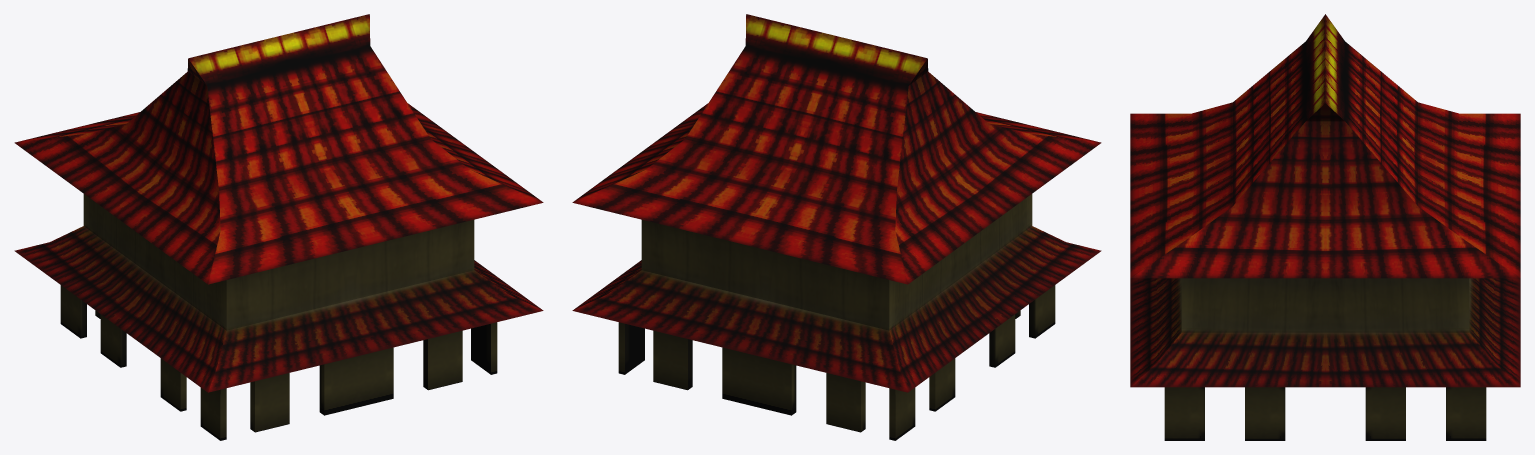
File: MESH_AMB17_House3.fbx
The picture shows the model from 3 angles, left to right: view 1: azimuth 30°, elevation 25°; view 2: azimuth 150°, elevation 25°; view 3: azimuth 270°, elevation 25°; orthographic projection.
Visible parts, largest first — view 1: up; view 2: up; view 3: up.
Boxes of the visible parts, x1=… form: up: x1=14, y1=14, x2=543, y2=440; up: x1=572, y1=14, x2=1101, y2=440; up: x1=1130, y1=14, x2=1520, y2=440.
Size of the model in its own units: 7.12 by 6.33 by 7.12.
